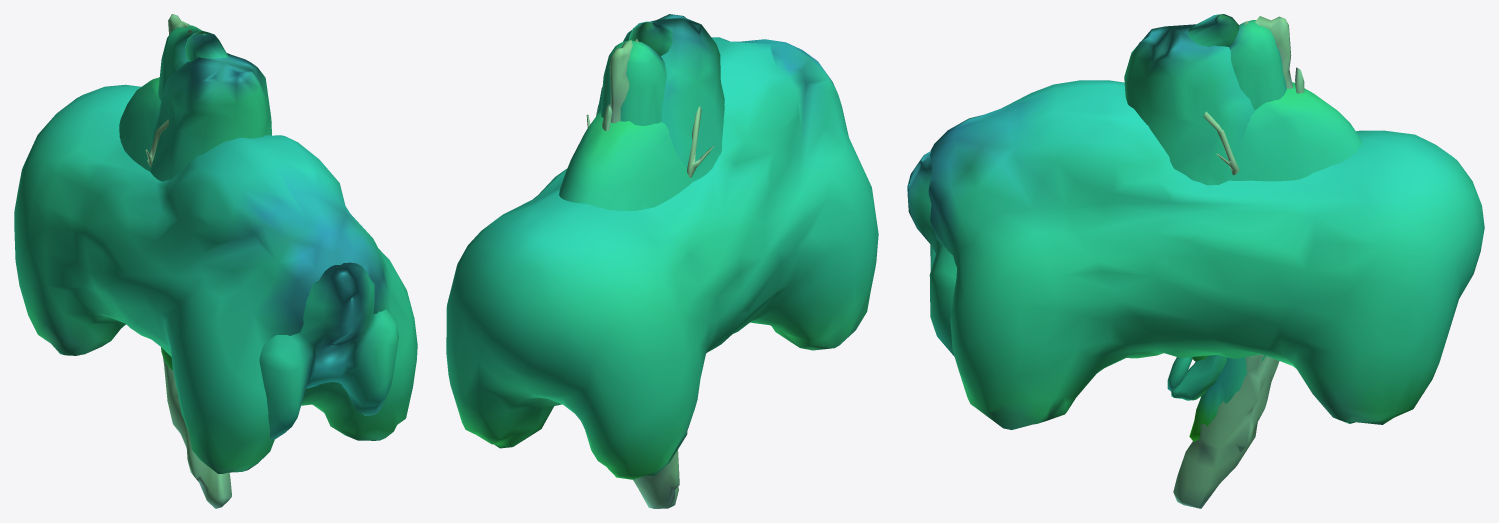
The model's file is animals.glb.
The picture shows the model from 3 angles, left to right: view 1: azimuth 30°, elevation 25°; view 2: azimuth 150°, elevation 25°; view 3: azimuth 270°, elevation 25°; orthographic projection. The views are drawn at different scales.
Parts seen in each view (by area): view 1: q_bear_spine, q_horse_spine, q_polar_neck, q_camel_spine, q_horse_tail, q_horse_neck, q_camel_neck; view 2: q_bear_spine, q_camel_spine, q_polar_neck, q_horse_neck, q_horse_tail, q_camel_neck, q_deer_head; view 3: q_bear_spine, q_polar_neck, q_camel_spine, q_horse_tail, q_horse_neck, q_horse_spine, q_wolf_tail, q_dog_tail, q_camel_neck.
Boxes of the visible parts, box(x1,y1,x2,y2) form: q_bear_spine: box(14, 84, 417, 473); q_horse_spine: box(259, 262, 398, 439); q_polar_neck: box(150, 53, 271, 181); q_camel_spine: box(119, 77, 346, 390); q_horse_tail: box(163, 357, 231, 508); q_horse_neck: box(158, 14, 201, 101); q_camel_neck: box(185, 30, 228, 61); q_bear_spine: box(446, 37, 878, 479); q_camel_spine: box(559, 111, 692, 210); q_polar_neck: box(597, 14, 724, 181); q_horse_neck: box(600, 39, 666, 130); q_horse_tail: box(633, 450, 679, 508); q_camel_neck: box(629, 21, 672, 56); q_deer_head: box(586, 105, 714, 177); q_bear_spine: box(928, 80, 1484, 429); q_polar_neck: box(1124, 24, 1254, 185); q_camel_spine: box(1229, 82, 1361, 181); q_horse_tail: box(1173, 354, 1279, 508); q_horse_neck: box(1229, 16, 1304, 110); q_horse_spine: box(907, 151, 956, 356); q_wolf_tail: box(1189, 355, 1265, 441); q_dog_tail: box(1171, 354, 1227, 400); q_camel_neck: box(1188, 14, 1239, 46).
Size of the model in its own units: 0.465 by 0.9403 by 1.
